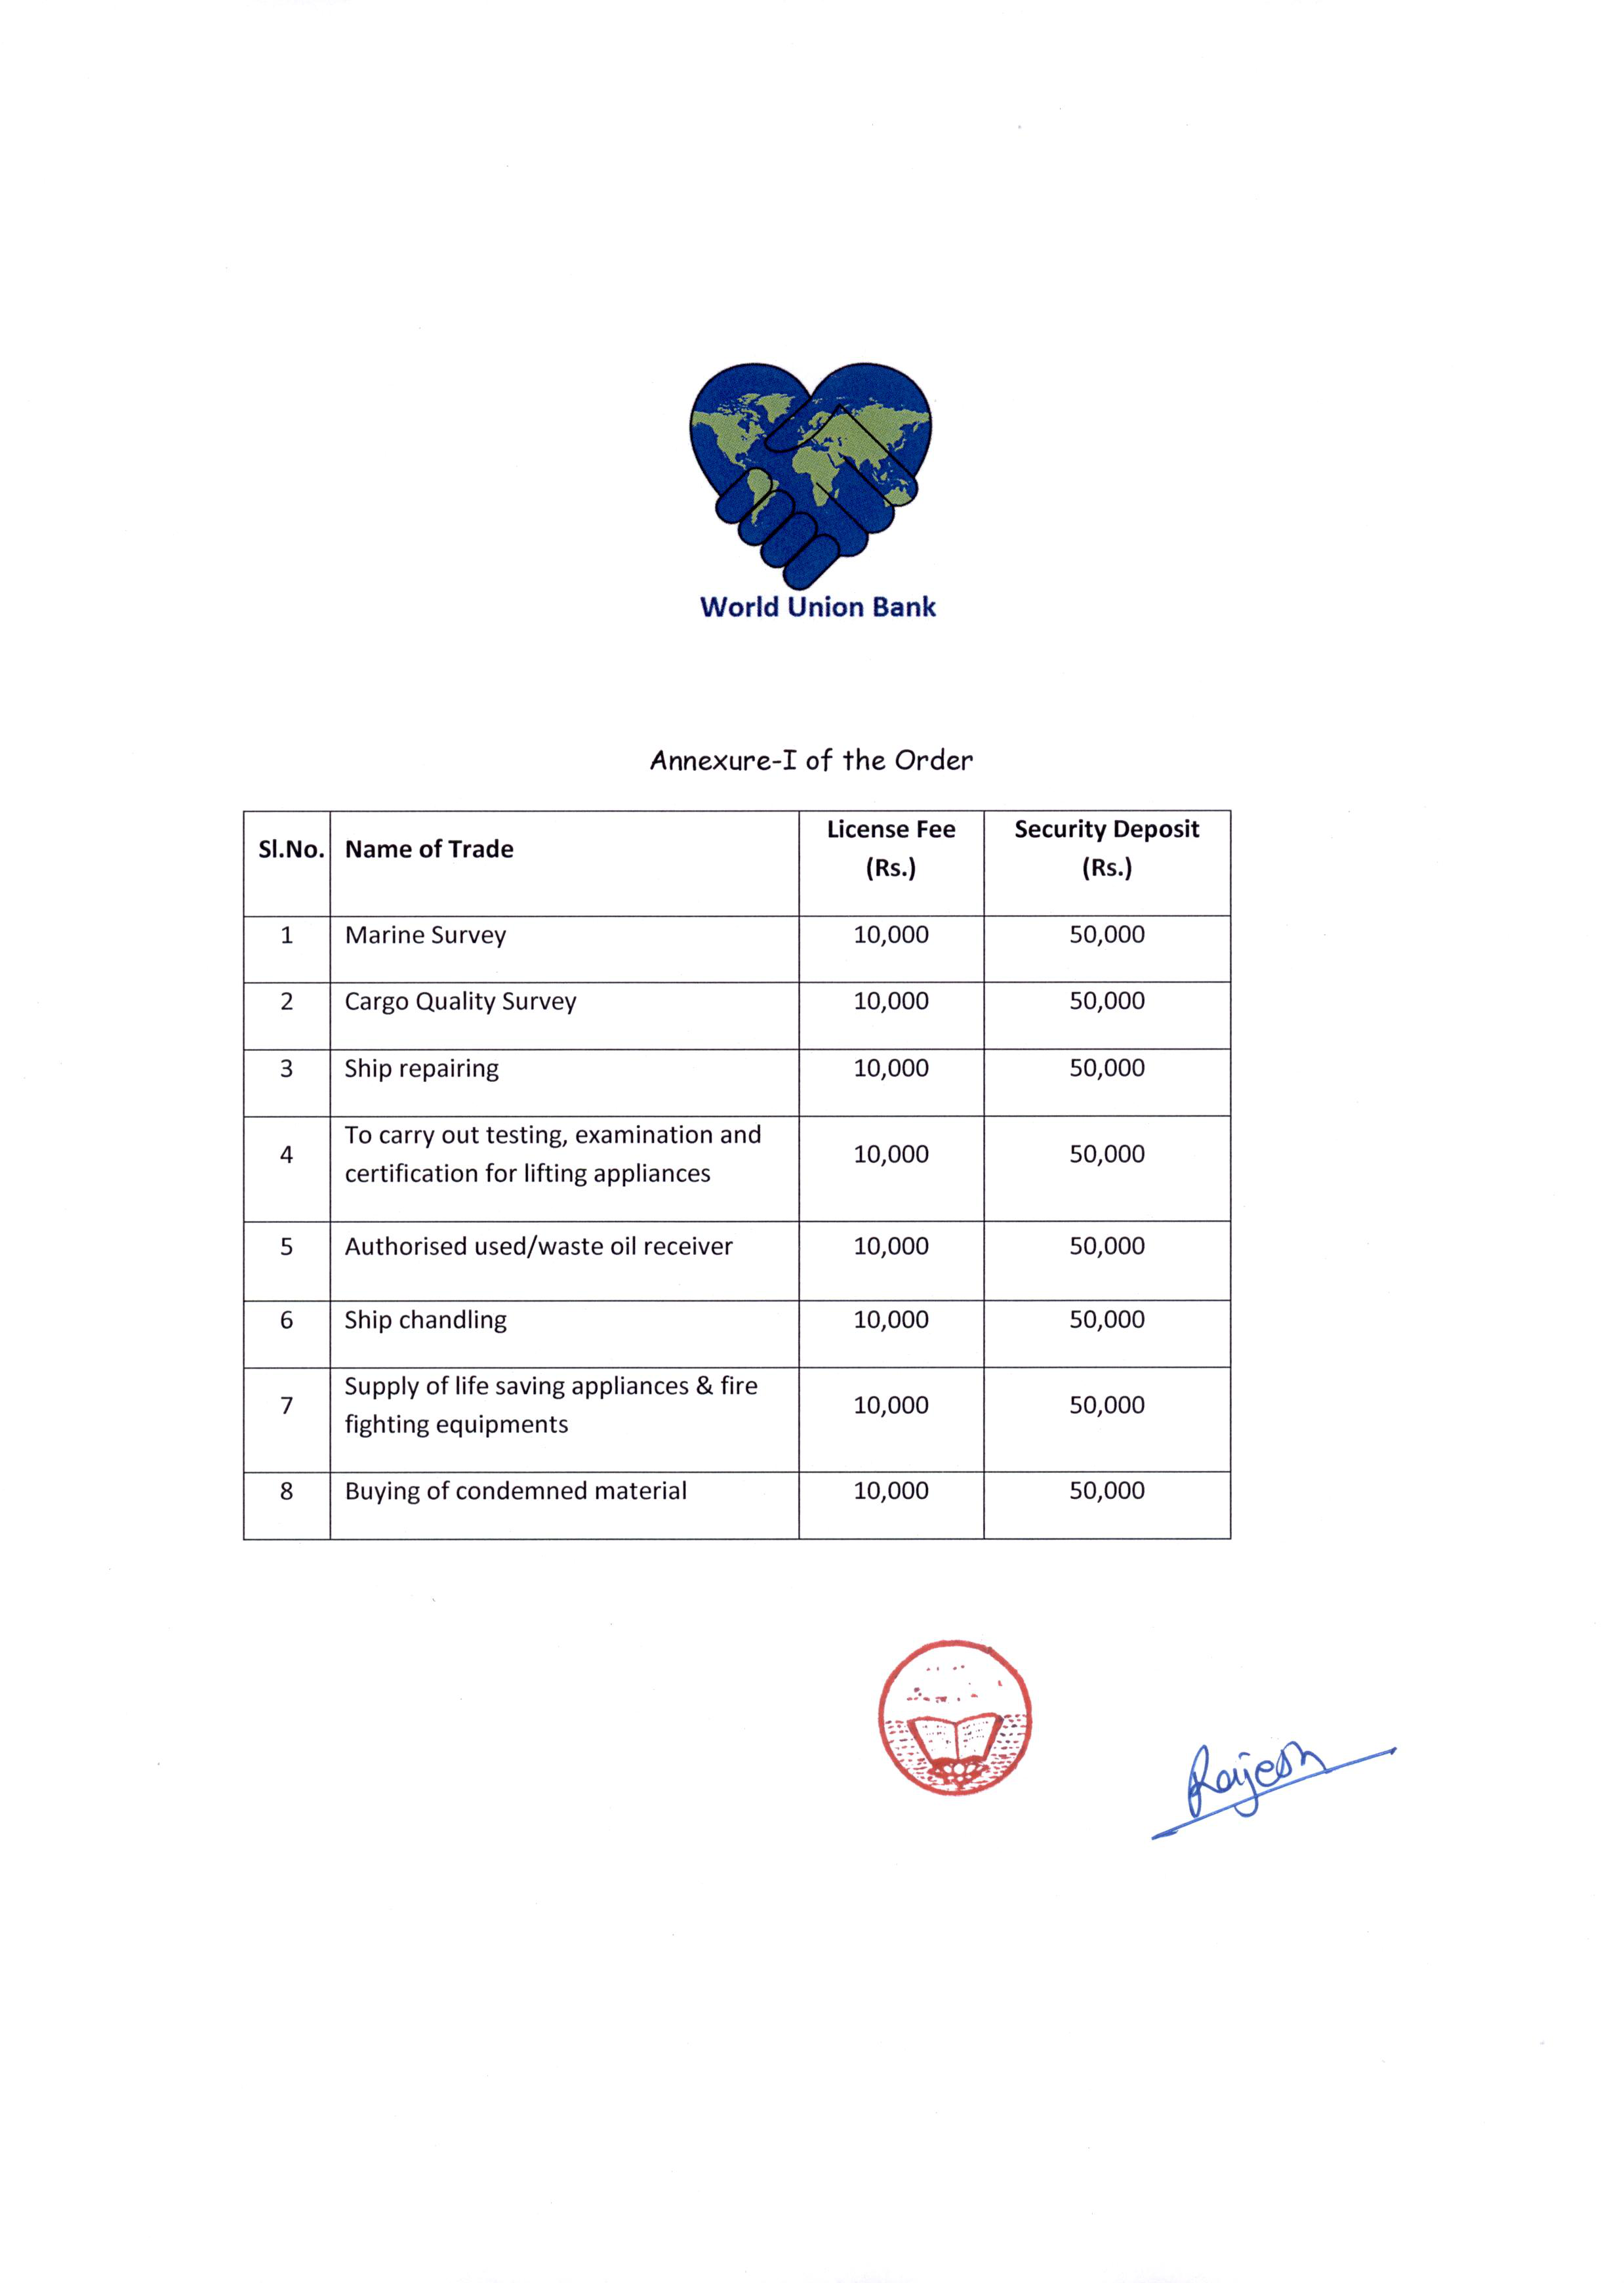Signature: (1132, 1721, 1404, 1845)
